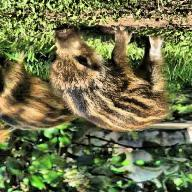boar: (57, 9, 177, 141), (0, 45, 67, 154)
